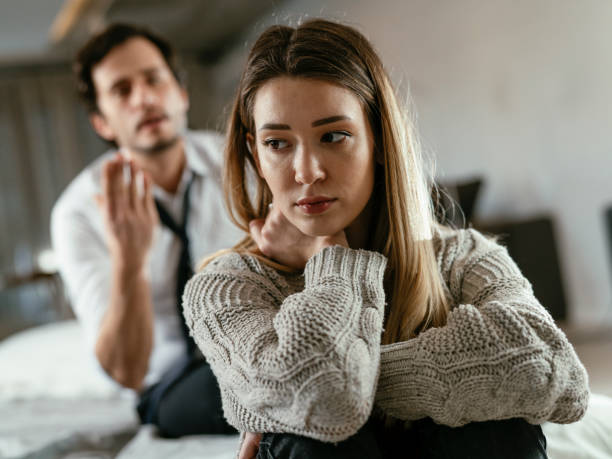without mask: (253, 70, 381, 249), (77, 33, 192, 162)
